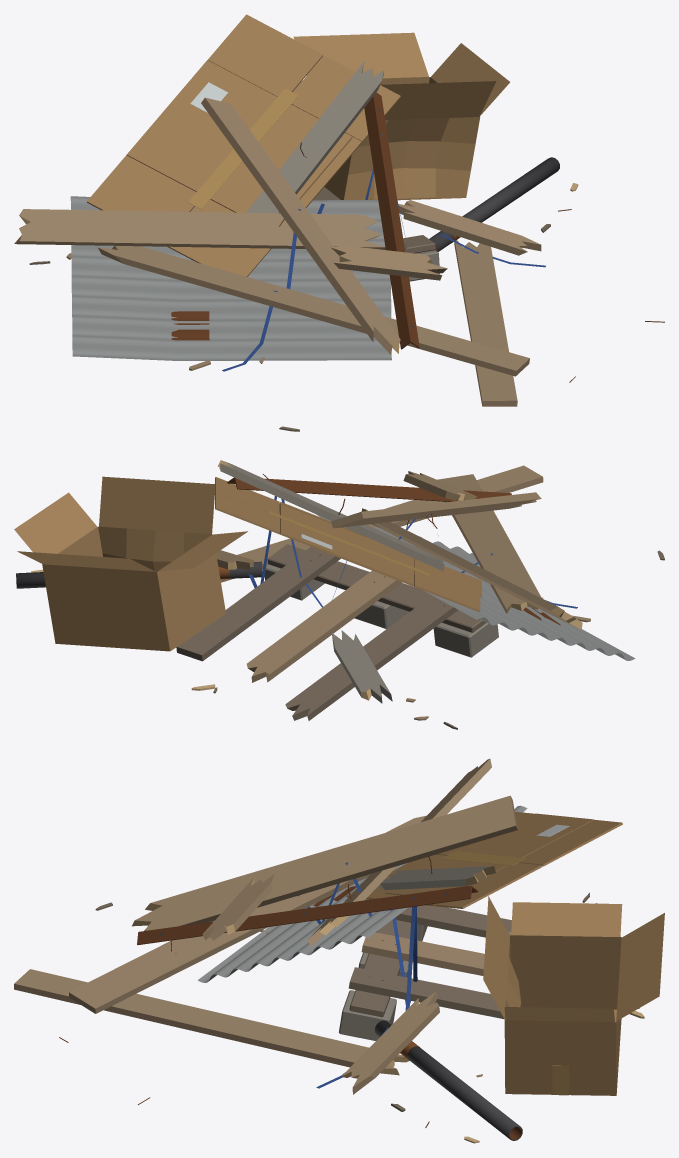
File: debris_a.glb
3 renders of one model, top to bottom at view 1: azimuth 30°, elevation 25°; view 2: azimuth 150°, elevation 25°; view 3: azimuth 270°, elevation 25°, orthographic. The views are drawn at different scales.
Visible parts, largest first — view 1: karton, wellblech, kiste_karton, brett.003, brett.002, brett.004, brett, brett.001, winkel, brett.006, brett.007, rohr (+2 smaller); view 2: kiste_karton, palette, karton, brett.002, wellblech, brett.004, brett.001, winkel, brett.003, brett, brett.005, rohr (+4 smaller); view 3: kiste_karton, brett.004, palette, karton, brett, brett.002, wellblech, winkel, brett.006, rohr, brett.003, brett.001 (+2 smaller).
Part boxes in pixels (<box>): karton: <box>87,14,400,276</box>; wellblech: <box>70,196,391,360</box>; kiste_karton: <box>292,32,509,200</box>; brett.003: <box>14,209,385,249</box>; brett.002: <box>98,246,529,376</box>; brett.004: <box>201,97,400,354</box>; brett: <box>454,240,517,406</box>; brett.001: <box>246,60,383,213</box>; winkel: <box>364,92,419,349</box>; brett.006: <box>398,200,541,255</box>; brett.007: <box>331,245,447,280</box>; rohr: <box>429,157,559,251</box>; kiste_karton: <box>14,476,247,651</box>; palette: <box>176,544,498,720</box>; karton: <box>214,477,481,612</box>; brett.002: <box>437,474,541,613</box>; wellblech: <box>316,514,635,660</box>; brett.004: <box>331,492,541,528</box>; brett.001: <box>217,460,444,571</box>; winkel: <box>227,477,511,501</box>; brett.003: <box>361,508,582,629</box>; brett: <box>220,465,543,582</box>; brett.005: <box>332,630,392,703</box>; rohr: <box>16,561,262,588</box>; kiste_karton: <box>483,896,664,1095</box>; brett.004: <box>132,795,517,930</box>; palette: <box>339,905,511,1040</box>; karton: <box>346,811,622,908</box>; brett: <box>14,969,409,1075</box>; brett.002: <box>69,815,426,1013</box>; wellblech: <box>198,805,527,982</box>; winkel: <box>137,885,478,944</box>; brett.006: <box>341,991,439,1094</box>; rohr: <box>375,1020,522,1140</box>; brett.003: <box>307,758,491,946</box>; brett.001: <box>379,855,495,890</box>.
Size of the model in its own units: 1.94 by 0.5988 by 1.87.
